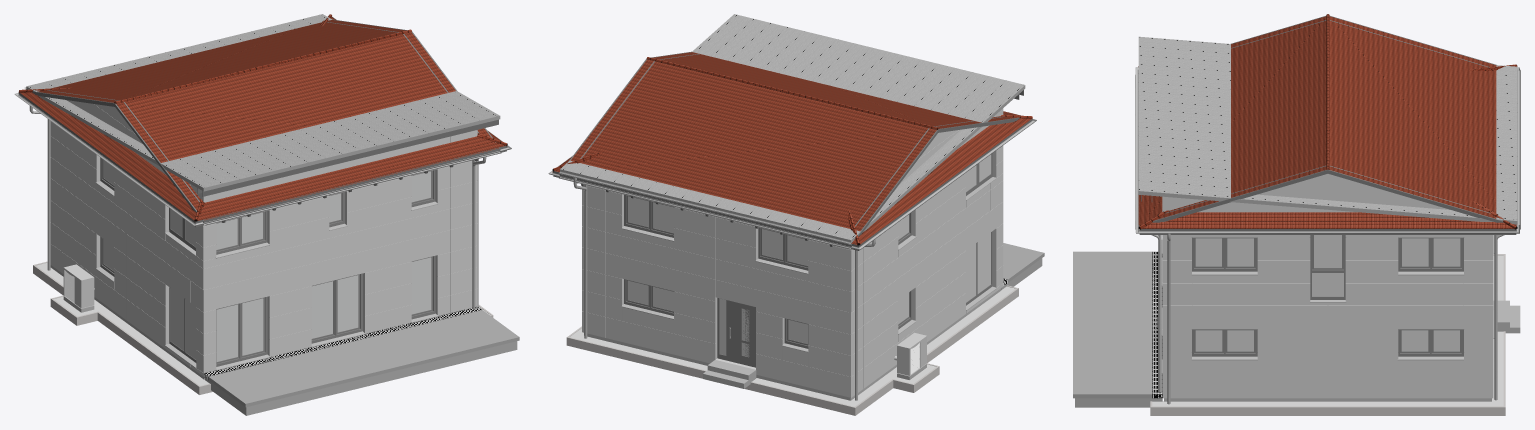
The model's file is building_004.dae.
3 renders of one model, left to right at view 1: azimuth 30°, elevation 25°; view 2: azimuth 150°, elevation 25°; view 3: azimuth 270°, elevation 25°, orthographic. The views are drawn at different scales.
Parts seen in each view (by area): view 1: roof_005, roof_002, plane_wall_002, plane_wall_006, Geschossd1, plane_wall_001, plane_wall_005, roof_008, LUXHAUS_-__LUXHAUS_-0_001, LUXHAUS_-__LUXHAUS_-0, Geschossd4, LUXHAUS_-9_LUXHAUS_13_LUXHAUS_15_LUXHAUS_18_LUXHAUS_22_LUXH_ (×2) (+21 smaller); view 2: roof_005, roof_002, plane_wall_000, plane_wall_004, plane_wall_001, plane_wall_005, Allgemein1, roof_008, Unterregi0, front_door_object_002, LUXHAUS_-8_LUXHAUS_10_LUXHAUS_12_LUXHAUS_17_LUXHAUS_19_LUXH_, LUXHAUS_-8_LUXHAUS_10_LUXHAUS_12_LUXHAUS_17_LUXHAUS_19_LUXHA (+21 smaller); view 3: roof_005, plane_wall_003, roof_002, plane_wall_007, Geschossd1, roof_008, Allgemein1, Basiswan27_001, Unterregi0, LUXHAUS_-9_LUXHAUS_13_LUXHAUS_15_LUXHAUS_18_LUXHAUS_22_LUXHA, LUXHAUS_-9_LUXHAUS_13_LUXHAUS_15_LUXHAUS_18_LUXHAUS_22_LUXH_, Fenster_1-_Fenster_10_Fenster_11 (+19 smaller).
Part boxes in pixels (left/top/right/bottom): roof_005: left=37, top=20, right=499, bottom=222; roof_002: left=26, top=14, right=500, bottom=191; plane_wall_002: left=203, top=223, right=477, bottom=372; plane_wall_006: left=203, top=160, right=477, bottom=289; Geschossd1: left=208, top=310, right=519, bottom=407; plane_wall_001: left=50, top=178, right=203, bottom=376; plane_wall_005: left=50, top=121, right=203, bottom=289; roof_008: left=18, top=17, right=507, bottom=223; LUXHAUS_-__LUXHAUS_-0_001: left=311, top=273, right=365, bottom=347; LUXHAUS_-__LUXHAUS_-0: left=216, top=296, right=269, bottom=370; Geschossd4: left=205, top=341, right=517, bottom=415; LUXHAUS_-9_LUXHAUS_13_LUXHAUS_15_LUXHAUS_18_LUXHAUS_22_LUXH_ (×2): left=165, top=208, right=269, bottom=258; roof_005: left=560, top=52, right=1016, bottom=246; roof_002: left=560, top=14, right=1025, bottom=243; plane_wall_000: left=582, top=247, right=851, bottom=397; plane_wall_004: left=582, top=185, right=850, bottom=312; plane_wall_001: left=851, top=202, right=1003, bottom=397; plane_wall_005: left=851, top=145, right=1003, bottom=312; Allgemein1: left=566, top=285, right=1018, bottom=415; roof_008: left=552, top=111, right=1032, bottom=247; Unterregi0: left=570, top=286, right=1015, bottom=406; front_door_object_002: left=717, top=298, right=755, bottom=367; LUXHAUS_-8_LUXHAUS_10_LUXHAUS_12_LUXHAUS_17_LUXHAUS_19_LUXH_: left=755, top=227, right=808, bottom=274; LUXHAUS_-8_LUXHAUS_10_LUXHAUS_12_LUXHAUS_17_LUXHAUS_19_LUXHA: left=621, top=194, right=674, bottom=241; roof_005: left=1138, top=16, right=1496, bottom=224; plane_wall_003: left=1162, top=305, right=1493, bottom=398; roof_002: left=1138, top=36, right=1517, bottom=224; plane_wall_007: left=1162, top=235, right=1493, bottom=305; Geschossd1: left=1073, top=251, right=1152, bottom=398; roof_008: left=1139, top=195, right=1516, bottom=231; Allgemein1: left=1150, top=254, right=1505, bottom=415; Basiswan27_001: left=1197, top=174, right=1450, bottom=212; Unterregi0: left=1152, top=255, right=1503, bottom=406; LUXHAUS_-9_LUXHAUS_13_LUXHAUS_15_LUXHAUS_18_LUXHAUS_22_LUXHA: left=1398, top=237, right=1464, bottom=275; LUXHAUS_-9_LUXHAUS_13_LUXHAUS_15_LUXHAUS_18_LUXHAUS_22_LUXH_: left=1191, top=237, right=1257, bottom=275; Fenster_1-_Fenster_10_Fenster_11: left=1310, top=235, right=1346, bottom=302.
Size of what is drawn, in the model's own units: 6.53 by 7.26 by 4.5.
